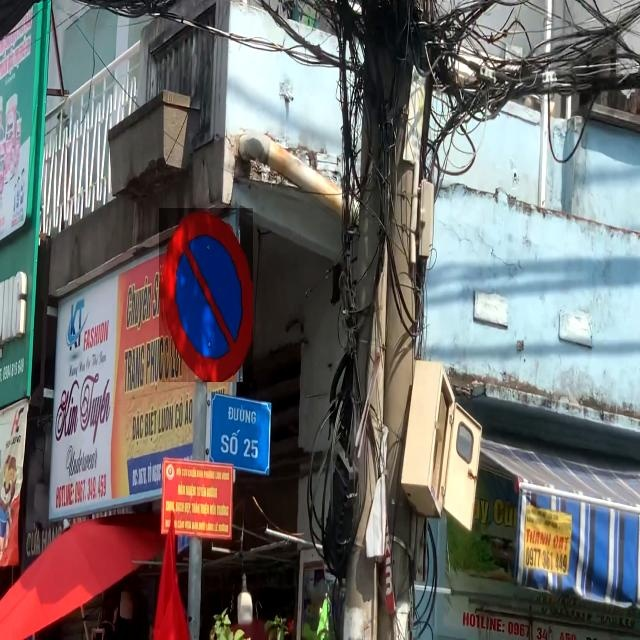bien_cam: (159, 208, 253, 382)
